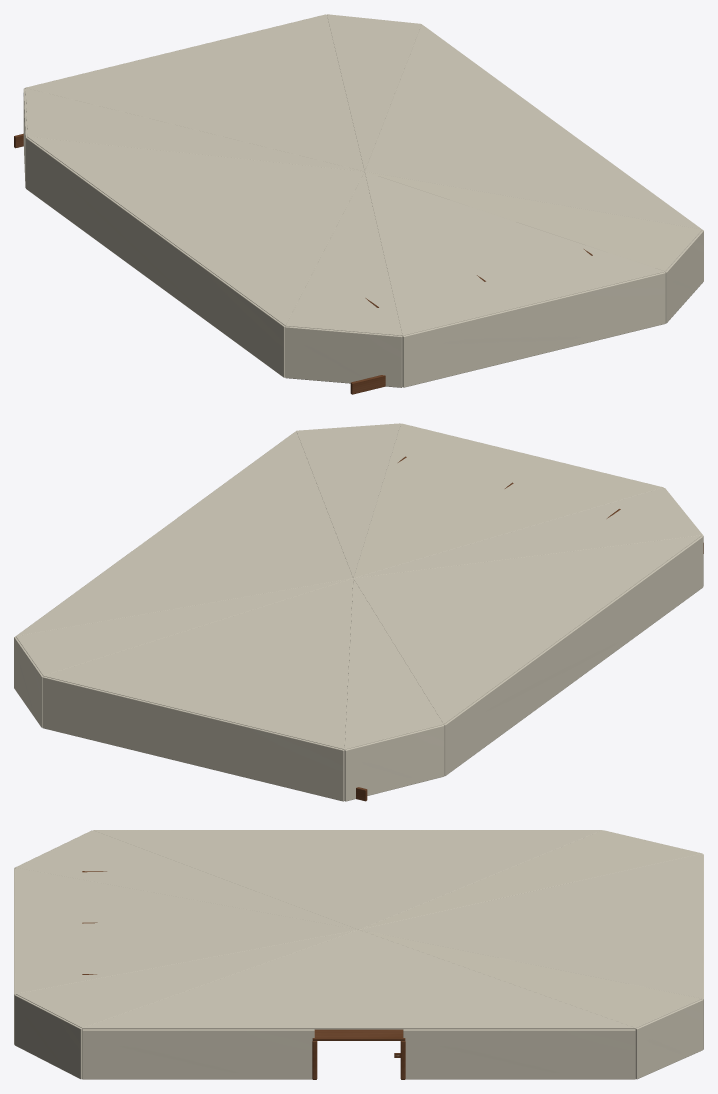
The model's file is D12_directory_07_entry_successor.glb.
The picture shows the model from 3 angles, top to bottom: view 1: azimuth 30°, elevation 25°; view 2: azimuth 150°, elevation 25°; view 3: azimuth 270°, elevation 25°; orthographic projection.
Parts seen in each view (by area): view 1: D12_directory_07__crown_wedge3, D12_directory_07__crown_wedge7, D12_directory_07__crown_wedge1, D12_directory_07__crown_wedge5, D12_directory_07__enclosure_5, D12_directory_07__enclosure_3, D12_directory_07__crown_wedge4, D12_directory_07__crown_wedge2, D12_directory_07__crown_wedge6, D12_directory_07__crown_wedge0, D12_directory_07__enclosure_4, D12_directory_07__enclosure_6; view 2: D12_directory_07__crown_wedge3, D12_directory_07__crown_wedge7, D12_directory_07__crown_wedge1, D12_directory_07__crown_wedge5, D12_directory_07__enclosure_1, D12_directory_07__enclosure_3, D12_directory_07__crown_wedge4, D12_directory_07__crown_wedge2, D12_directory_07__crown_wedge6, D12_directory_07__crown_wedge0, D12_directory_07__enclosure_2, D12_directory_07__enclosure_0; view 3: D12_directory_07__crown_wedge7, D12_directory_07__crown_wedge3, D12_directory_07__crown_wedge1, D12_directory_07__crown_wedge5, D12_directory_07__entry_left, D12_directory_07__entry_right, D12_directory_07__crown_wedge4, D12_directory_07__crown_wedge6, D12_directory_07__crown_wedge2, D12_directory_07__crown_wedge0, D12_directory_07__enclosure_6, D12_directory_07__enclosure_0 (+2 smaller).
Boxes of the visible parts, x1,y1,x2,y2 form: D12_directory_07__crown_wedge3: (27,137,364,325); D12_directory_07__crown_wedge7: (365,24,701,229); D12_directory_07__crown_wedge1: (26,14,364,171); D12_directory_07__crown_wedge5: (365,172,664,335); D12_directory_07__enclosure_5: (402,272,665,387); D12_directory_07__enclosure_3: (26,137,285,377); D12_directory_07__crown_wedge4: (285,172,402,335); D12_directory_07__crown_wedge2: (25,88,363,171); D12_directory_07__crown_wedge6: (365,171,701,271); D12_directory_07__crown_wedge0: (327,14,421,170); D12_directory_07__enclosure_4: (285,326,402,387); D12_directory_07__enclosure_6: (665,230,703,323); D12_directory_07__crown_wedge3: (353,535,701,724); D12_directory_07__crown_wedge7: (16,431,352,635); D12_directory_07__crown_wedge1: (43,578,353,749); D12_directory_07__crown_wedge5: (353,423,662,578); D12_directory_07__enclosure_1: (42,676,344,801); D12_directory_07__enclosure_3: (444,536,703,775); D12_directory_07__crown_wedge4: (354,488,701,578); D12_directory_07__crown_wedge2: (344,579,443,749); D12_directory_07__crown_wedge6: (296,423,400,577); D12_directory_07__crown_wedge0: (16,578,351,675); D12_directory_07__enclosure_2: (344,724,444,801); D12_directory_07__enclosure_0: (14,637,43,727); D12_directory_07__crown_wedge7: (82,930,635,1029); D12_directory_07__crown_wedge3: (94,830,601,929); D12_directory_07__crown_wedge1: (359,853,701,998); D12_directory_07__crown_wedge5: (16,867,358,993); D12_directory_07__entry_left: (82,1029,314,1079); D12_directory_07__entry_right: (403,1029,635,1079); D12_directory_07__crown_wedge4: (16,830,357,929); D12_directory_07__crown_wedge6: (16,930,357,1027); D12_directory_07__crown_wedge2: (360,830,701,929); D12_directory_07__crown_wedge0: (360,930,701,1027); D12_directory_07__enclosure_6: (14,994,82,1079); D12_directory_07__enclosure_0: (635,999,703,1079).
Size of the model in its own units: 42.73 by 5.43 by 62.36.
Materials: 8 (8 with a texture image).
